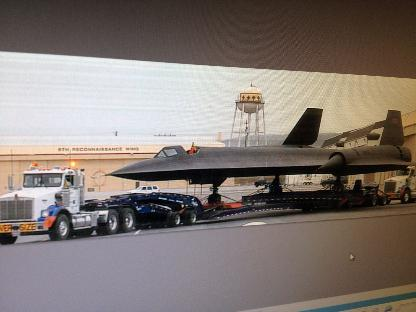Rafale: (99, 108, 415, 204)
